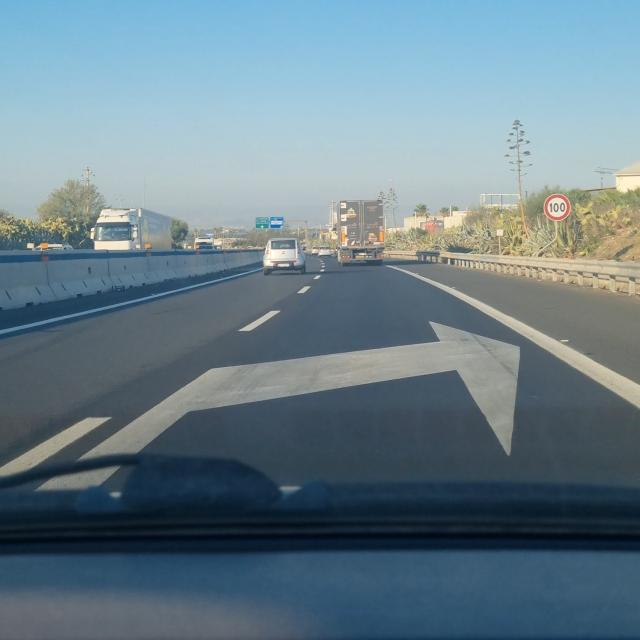forb_speed_over_100: (544, 194, 572, 222)
